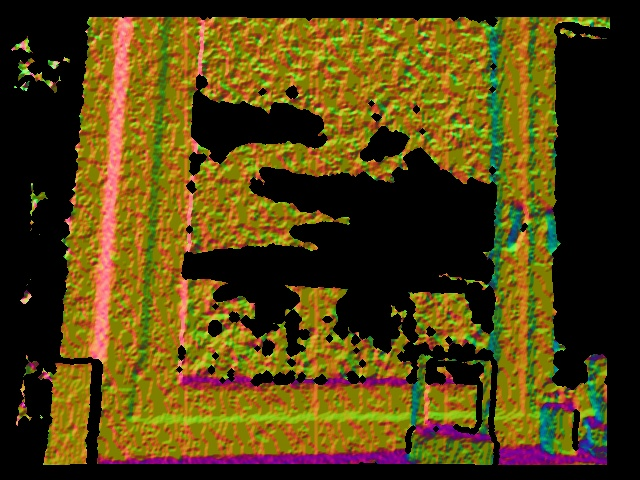station: (406, 349, 498, 467)
